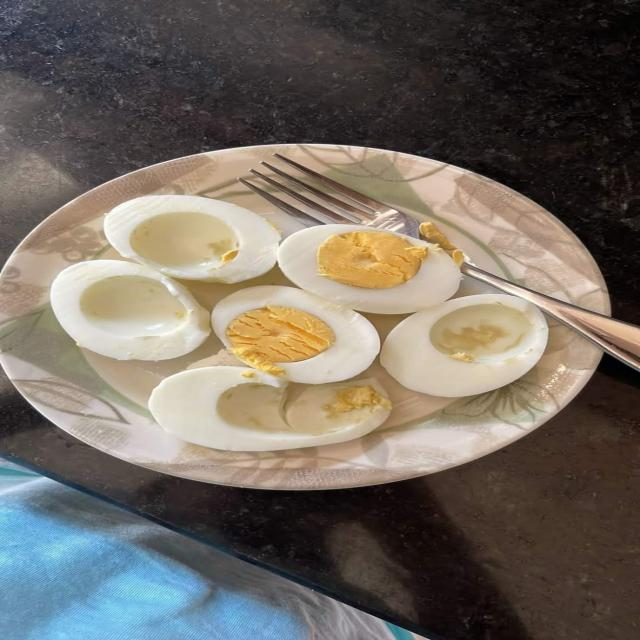egg boiled: (149, 366, 390, 451), (380, 295, 547, 397), (212, 286, 379, 384), (278, 225, 460, 313), (50, 260, 210, 360), (104, 195, 279, 283)
